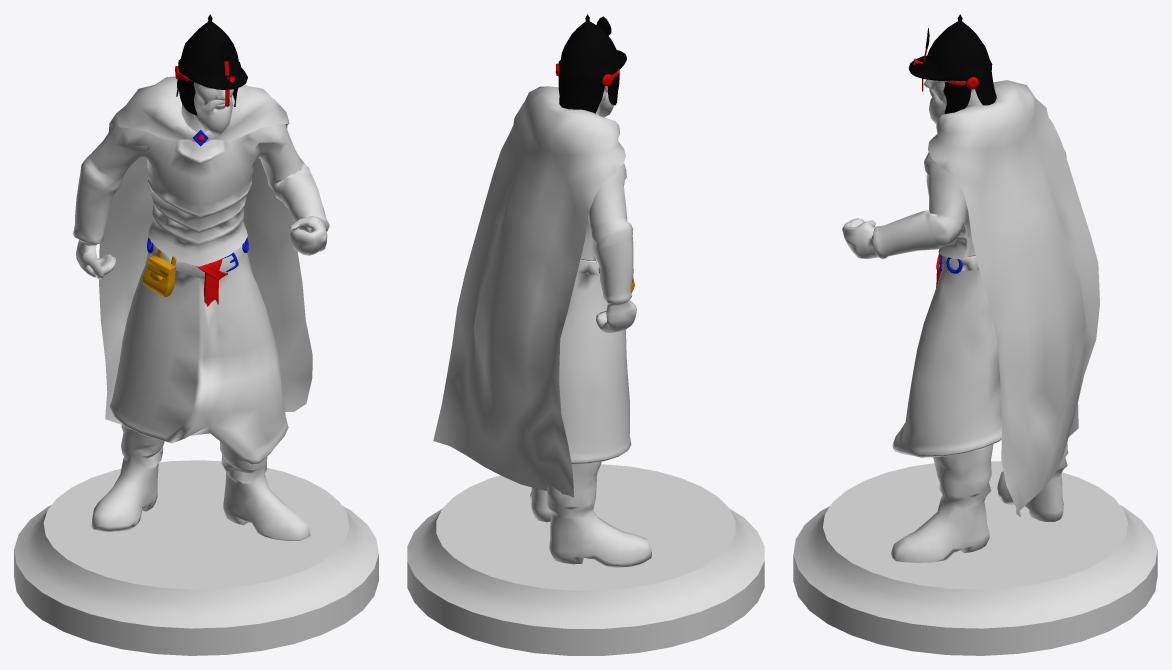
File: Figurka_guard.fbx
The picture shows the model from 3 angles, left to right: view 1: azimuth 30°, elevation 25°; view 2: azimuth 150°, elevation 25°; view 3: azimuth 270°, elevation 25°; orthographic projection.
Visible parts, largest first — view 1: Figurka_guard; view 2: Figurka_guard; view 3: Figurka_guard.
Part boxes in pixels (<box>): Figurka_guard: <box>14,14,378,655</box>; Figurka_guard: <box>407,14,764,655</box>; Figurka_guard: <box>793,14,1157,655</box>.
Size of the model in its own units: 3.04 by 5.24 by 3.04.
